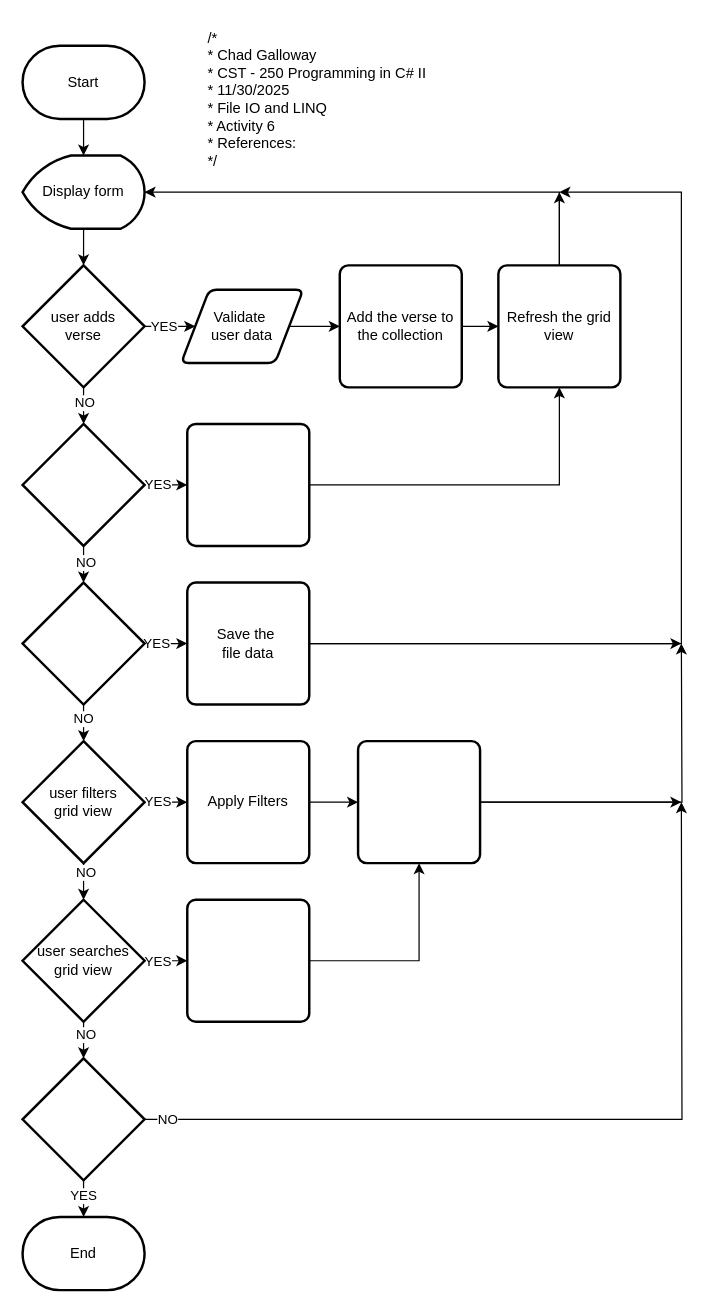
The diagram is 712 pixels wide and 1312 high, and some of its shapes have lost their labels. The centre of each missing label's shape, as x and y in pixels:
"Filter the search criteria" goes at pixel 247 960.
"Format the data grid view" goes at pixel 418 801.
"Load the file data" goes at pixel 247 484.
"user exits" goes at pixel 83 1119.
"user loads file" goes at pixel 83 484.
"user saves file" goes at pixel 83 643.
